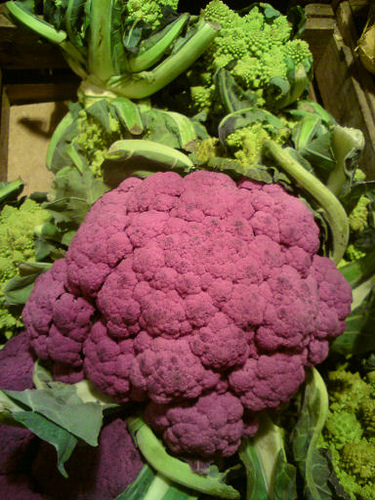cauliflower: (23, 171, 353, 460)
